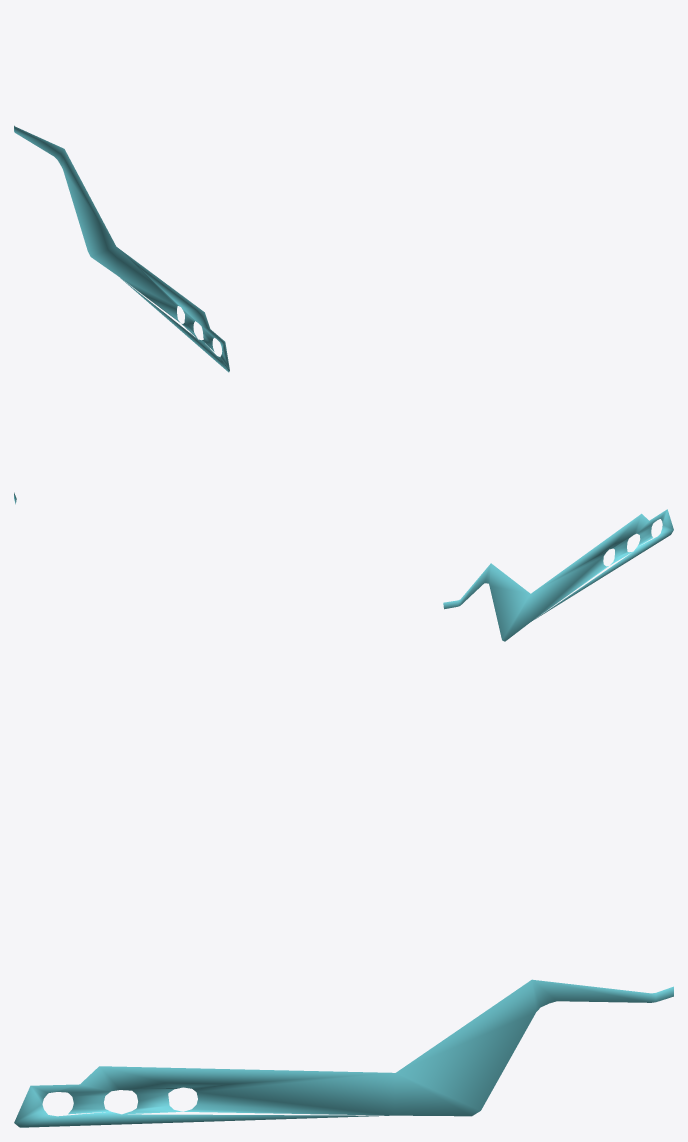
The model's file is kaeferkraft-lightweight_body.glb.
3 views of the same model, one above another, from view 1: azimuth 30°, elevation 25°; view 2: azimuth 150°, elevation 25°; view 3: azimuth 270°, elevation 25° (orthographic). The views are drawn at different scales.
Visible parts, largest first — view 1: kaeferkraft-lightweight_body; view 2: kaeferkraft-lightweight_body; view 3: kaeferkraft-lightweight_body.
Part boxes in pixels (x1=…): kaeferkraft-lightweight_body: x1=14, y1=125, x2=229, y2=372; kaeferkraft-lightweight_body: x1=14, y1=492, x2=673, y2=641; kaeferkraft-lightweight_body: x1=14, y1=979, x2=673, y2=1127.
Bounding box in the file's own units: 1.6 × 0.3288 × 1.38.
